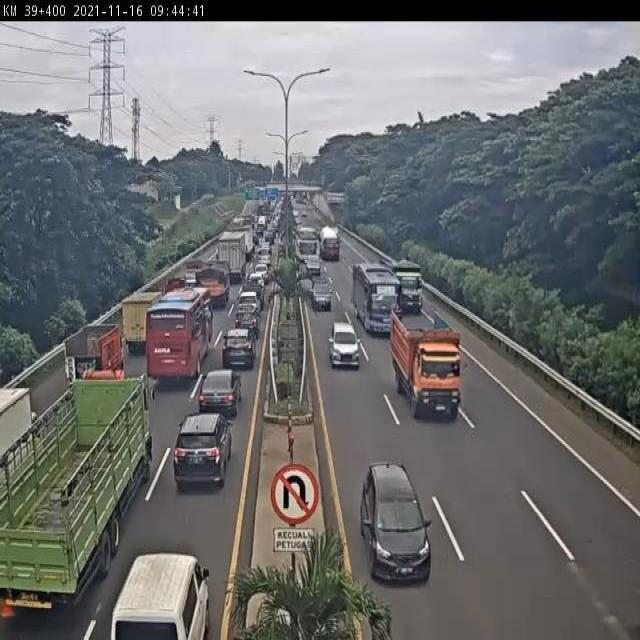big bus: (146, 289, 213, 383), (350, 264, 398, 339)
car: (360, 460, 430, 583), (172, 419, 228, 488), (194, 372, 239, 421), (328, 319, 359, 365), (221, 331, 253, 373), (310, 273, 334, 312), (232, 308, 259, 335), (236, 288, 261, 316)
small truck: (118, 291, 159, 352)
truck-l-: (0, 380, 149, 607), (389, 262, 424, 314)
truck-m-: (393, 314, 461, 418), (63, 326, 124, 390), (194, 268, 230, 308)
